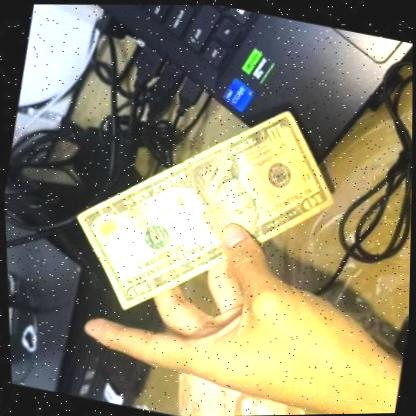ten-front: (47, 67, 357, 348)
